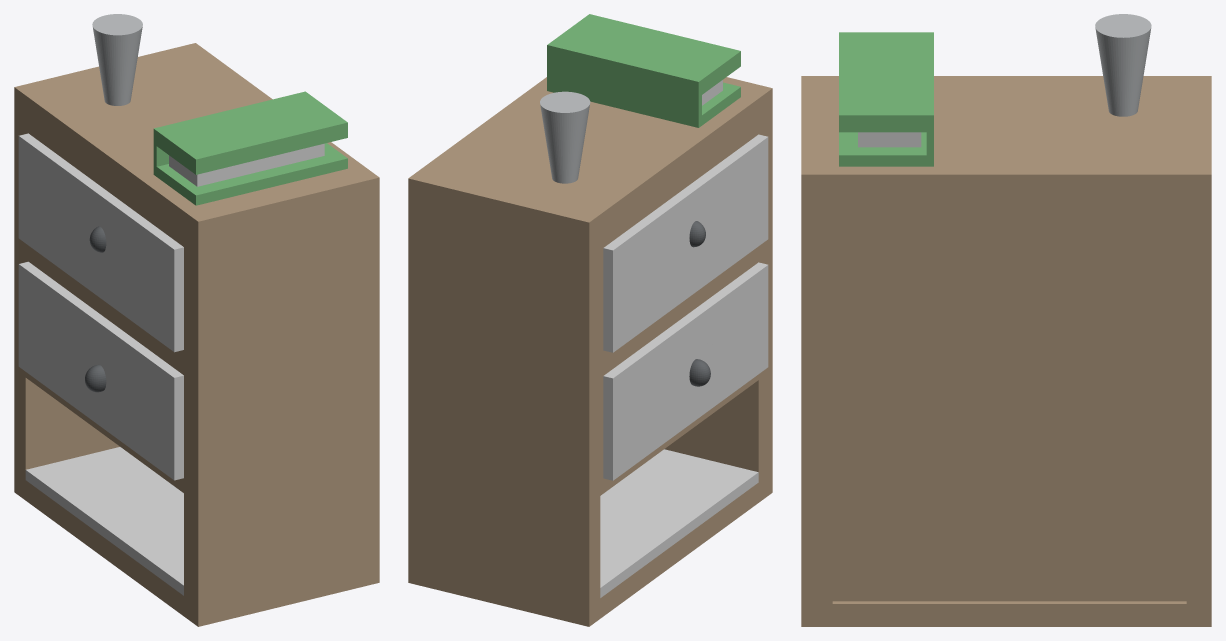
Rendered from Bookshelf.glb.
3 views of the same model, side by side, from view 1: azimuth 30°, elevation 25°; view 2: azimuth 150°, elevation 25°; view 3: azimuth 270°, elevation 25° (orthographic). The views are drawn at different scales.
Parts seen in each view (by area): view 1: Mesh_Mesh_head_geo.001_lambert2SG.001; view 2: Mesh_Mesh_head_geo.001_lambert2SG.001; view 3: Mesh_Mesh_head_geo.001_lambert2SG.001.
Part boxes in pixels (left/top/right/bottom): Mesh_Mesh_head_geo.001_lambert2SG.001: left=14, top=14, right=379, bottom=626; Mesh_Mesh_head_geo.001_lambert2SG.001: left=408, top=14, right=772, bottom=626; Mesh_Mesh_head_geo.001_lambert2SG.001: left=801, top=14, right=1211, bottom=626.
Bounding box in the file's own units: 42 × 93.8 × 65.
